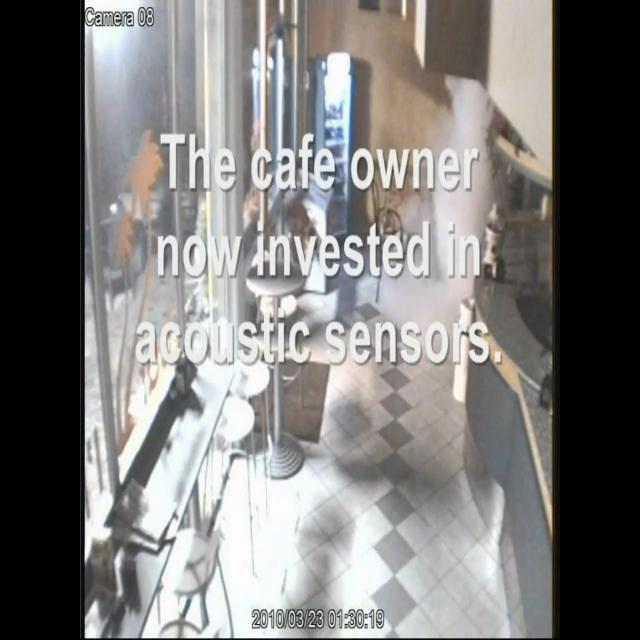Smoke: (434, 76, 494, 299)
